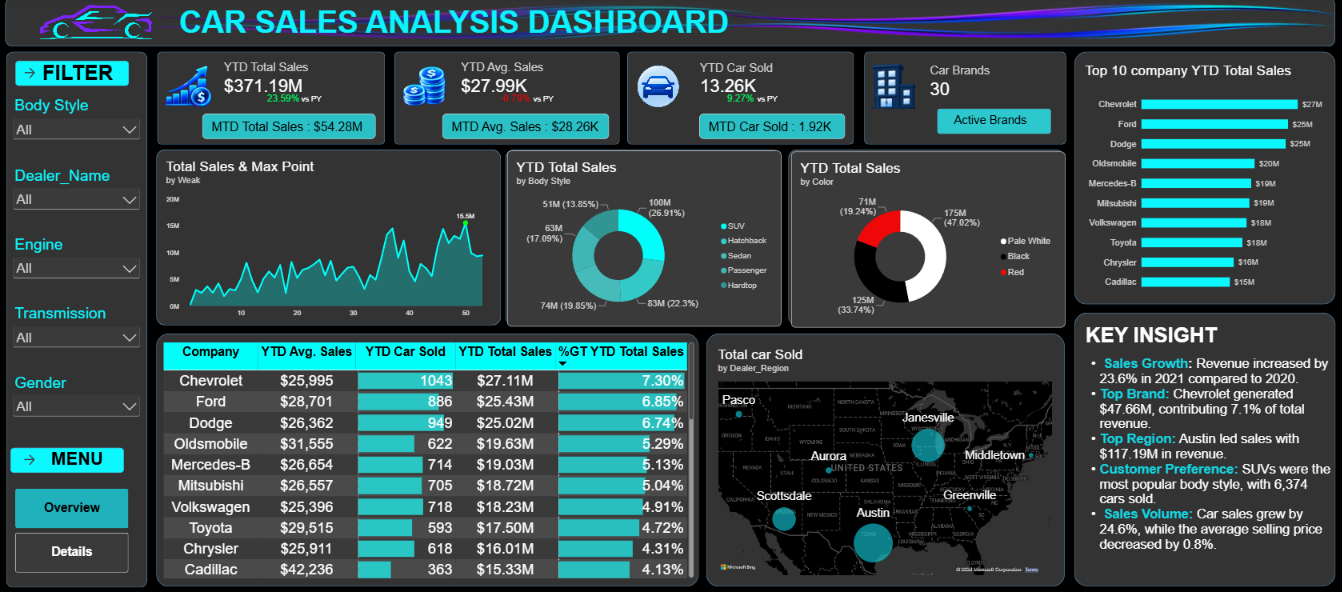

The dashboard page shown, as its layout file describes it:
{"tool":"powerbi","page":{"name":"Overview","canvas":[2433,1080],"ordinal":0},"visuals":[{"type":"shape","box":[11.1,0,2406.9,88.4],"z":0},{"type":"shape","box":[284,275,624,318],"z":0,"group":"g2"},{"type":"shape","box":[1279.2,607,648.8,457.9],"z":0,"group":"g1"},{"type":"shape","box":[1945,97.2,473,457.5],"z":1000},{"type":"shape","box":[286,98,412.2,168.4],"z":1000,"group":"g3"},{"type":"shape","box":[916,275.1,500,318.3],"z":1000,"group":"g2"},{"type":"shape","box":[283.4,607,982,457.9],"z":1000,"group":"g1"},{"type":"shape","box":[12.7,97.7,255.2,970],"z":2000},{"type":"shape","box":[714.4,98,408.1,168.4],"z":2000,"group":"g3"},{"type":"shape","box":[1428,275.1,500,318.3],"z":2000,"group":"g2"},{"type":"shape","box":[1944.7,569.4,473,495.1],"z":2000,"group":"g1"},{"type":"shape","box":[1136.8,98,410.2,168.4],"z":3000,"group":"g3"},{"type":"group","id":"g1","title":"Group 2","box":[283.4,569.4,2134.3,495.5],"z":3000},{"type":"shape","box":[1565.2,98,365.5,168.4],"z":4000,"group":"g3"},{"type":"group","id":"g2","title":"Group 5","box":[284,275,1644,318.4],"z":4000},{"type":"image","box":[234,10,1172,68],"z":5000},{"type":"image","box":[64,9.8,222.5,68.3],"z":6000},{"type":"image","box":[1264.5,9.8,1168.9,68.3],"z":7000},{"type":"textbox","box":[324.9,13.3,1014.5,75.1],"z":8000},{"type":"group","id":"g3","title":"Group 3","box":[286,98,1644,168],"z":9000},{"type":"cardVisual","fields":{"Data":["KPI's measures.Total YTD Sales"]},"box":[390,96,203.3,103.9],"z":10000},{"type":"image","box":[289.3,120,104.8,81.8],"z":11000},{"type":"areaChart","title":"Total Sales & Max Point","fields":{"Category":["Caledar Table.Weak"],"Y":["KPI's measures.Total Sales","KPI's measures.Max Point"]},"box":[285.1,276.3,614.4,320.5],"z":12000},{"type":"donutChart","fields":{"Category":["Cars Sales Data.Body Style"],"Y":["KPI's measures.YTD Total Sales"]},"box":[920,276,496,318],"z":13000},{"type":"image","box":[715.1,120,104.8,81.8],"z":14000},{"type":"donutChart","fields":{"Category":["Cars Sales Data.Color"],"Y":["KPI's measures.YTD Total Sales"]},"box":[1434,278,496,318],"z":15000},{"type":"image","box":[1141,120,104.8,81.8],"z":16000},{"type":"clusteredBarChart","title":"Top 10 company YTD Total Sales","fields":{"Category":["Cars Sales Data.Company"],"Y":["KPI's measures.YTD Total Sales"]},"box":[1949.4,103.9,461.9,450.9],"z":17000},{"type":"image","box":[1564.5,120,104.8,81.8],"z":18000},{"type":"tableEx","fields":{"Values":["Cars Sales Data.Company","KPI's measures.YTD Avg. Sales","KPI's measures.YTD Car Sold","KPI's measures.YTD Total Sales","Divide(KPI's measures.YTD Total Sales, ScopedEval(KPI's measures.YTD Total Sales, []))"]},"box":[290,615,974,445],"z":19000},{"type":"slicer","fields":{"Values":["Cars Sales Data.Body Style"]},"box":[20,180,240,88],"z":20000},{"type":"cardVisual","fields":{"Data":["KPI's measures.YTD Avg. Sales"]},"box":[820,96,203.3,103.9],"z":21000},{"type":"cardVisual","fields":{"Data":["KPI's measures.YTD Car Sold"]},"box":[1252,96,166,104],"z":22000},{"type":"slicer","fields":{"Values":["Cars Sales Data.Dealer_Name"]},"box":[20,305,240,88],"z":23000},{"type":"cardVisual","fields":{"Data":["KPI's measures.Car Brands"]},"box":[1668,96,204,114],"z":24000},{"type":"slicer","fields":{"Values":["Cars Sales Data.Engine"]},"box":[20,430,240,88],"z":25000},{"type":"cardVisual","fields":{"Data":["KPI's measures.MTD Avg. KPIs"]},"box":[802,210,302,46],"z":26000},{"type":"slicer","fields":{"Values":["Cars Sales Data.Transmission"]},"box":[20,555,240,88],"z":27000},{"type":"slicer","fields":{"Values":["Cars Sales Data.Gender"]},"box":[20,680,240,88],"z":28000},{"type":"cardVisual","fields":{"Data":["KPI's measures.Agv. Sales Growth %"]},"box":[890,165,93,37],"z":29000},{"type":"cardVisual","fields":{"Data":["KPI's measures.sales Growth %"]},"box":[468,165,93,37],"z":30000},{"type":"shape","box":[29,114,206,46],"z":31000},{"type":"cardVisual","fields":{"Data":["KPI's measures.Car Sold Growth %"]},"box":[1302,165,93,37],"z":32000},{"type":"textbox","box":[78,114,136,47],"z":33000},{"type":"cardVisual","fields":{"Data":["KPI's measures.MTD Car KPIs"]},"box":[1266,210,264,46],"z":34000},{"type":"shape","box":[20,814,206,46],"z":35000},{"type":"actionButton","box":[34,117,41,37],"z":36000},{"type":"shape","box":[1698,200,206,46],"z":37000},{"type":"actionButton","box":[24,816,62,40],"z":38000},{"type":"textbox","box":[1711,210,182,28],"z":39000},{"type":"textbox","box":[95,817,117,38],"z":40000},{"type":"textbox","box":[967,176,80,26],"z":41000},{"type":"cardVisual","fields":{"Data":["KPI's measures.MTD Sales Kpis"]},"box":[368,210,314,46],"z":42000},{"type":"textbox","box":[1372,176,80,26],"z":43000},{"type":"textbox","box":[546,176,80,26],"z":44000},{"type":"map","fields":{"Category":["Cars Sales Data.Dealer_Region"],"Size":["KPI's measures.Total car Sold"]},"box":[1285,616.7,636,444.3],"z":45000},{"type":"textbox","box":[1945,583.5,466.4,475.2],"z":46000},{"type":"pageNavigator","box":[28.7,888.5,205.6,152.5],"z":46001}]}

Visuals, with their boxes in screenshot pixels (x1, y1, x2, y2), scaled from the page's 2433x1080 canvas onto the 1342x592 screenshot:
shape: bbox(6, 0, 1334, 48)
shape: bbox(157, 151, 501, 325)
shape: bbox(706, 333, 1063, 584)
shape: bbox(1073, 53, 1334, 304)
shape: bbox(158, 54, 385, 146)
shape: bbox(505, 151, 781, 325)
shape: bbox(156, 333, 698, 584)
shape: bbox(7, 54, 148, 585)
shape: bbox(394, 54, 619, 146)
shape: bbox(788, 151, 1063, 325)
shape: bbox(1073, 312, 1334, 584)
shape: bbox(627, 54, 853, 146)
"Group 2" group: bbox(156, 312, 1334, 584)
shape: bbox(863, 54, 1065, 146)
"Group 5" group: bbox(157, 151, 1063, 325)
image: bbox(129, 5, 776, 43)
image: bbox(35, 5, 158, 43)
image: bbox(697, 5, 1341, 43)
textbox: bbox(179, 7, 739, 48)
"Group 3" group: bbox(158, 54, 1065, 146)
cardVisual - KPI's measures.Total YTD Sales: bbox(215, 53, 327, 110)
image: bbox(160, 66, 217, 111)
"Total Sales & Max Point" areaChart: bbox(157, 151, 496, 327)
donutChart - Cars Sales Data.Body Style x KPI's measures.YTD Total Sales: bbox(507, 151, 781, 326)
image: bbox(394, 66, 452, 111)
donutChart - Cars Sales Data.Color x KPI's measures.YTD Total Sales: bbox(791, 152, 1065, 327)
image: bbox(629, 66, 687, 111)
"Top 10 company YTD Total Sales" clusteredBarChart: bbox(1075, 57, 1330, 304)
image: bbox(863, 66, 921, 111)
tableEx - Cars Sales Data.Company x KPI's measures.YTD Avg. Sales: bbox(160, 337, 697, 581)
slicer - Cars Sales Data.Body Style: bbox(11, 99, 143, 147)
cardVisual - KPI's measures.YTD Avg. Sales: bbox(452, 53, 564, 110)
cardVisual - KPI's measures.YTD Car Sold: bbox(691, 53, 782, 110)
slicer - Cars Sales Data.Dealer_Name: bbox(11, 167, 143, 215)
cardVisual - KPI's measures.Car Brands: bbox(920, 53, 1033, 115)
slicer - Cars Sales Data.Engine: bbox(11, 236, 143, 284)
cardVisual - KPI's measures.MTD Avg. KPIs: bbox(442, 115, 609, 140)
slicer - Cars Sales Data.Transmission: bbox(11, 304, 143, 352)
slicer - Cars Sales Data.Gender: bbox(11, 373, 143, 421)
cardVisual - KPI's measures.Agv. Sales Growth %: bbox(491, 90, 542, 111)
cardVisual - KPI's measures.sales Growth %: bbox(258, 90, 309, 111)
shape: bbox(16, 62, 130, 88)
cardVisual - KPI's measures.Car Sold Growth %: bbox(718, 90, 769, 111)
textbox: bbox(43, 62, 118, 88)
cardVisual - KPI's measures.MTD Car KPIs: bbox(698, 115, 844, 140)
shape: bbox(11, 446, 125, 471)
actionButton: bbox(19, 64, 41, 84)
shape: bbox(937, 110, 1050, 135)
actionButton: bbox(13, 447, 47, 469)
textbox: bbox(944, 115, 1044, 130)
textbox: bbox(52, 448, 117, 469)
textbox: bbox(533, 96, 578, 111)
cardVisual - KPI's measures.MTD Sales Kpis: bbox(203, 115, 376, 140)
textbox: bbox(757, 96, 801, 111)
textbox: bbox(301, 96, 345, 111)
map - Cars Sales Data.Dealer_Region x KPI's measures.Total car Sold: bbox(709, 338, 1060, 582)
textbox: bbox(1073, 320, 1330, 580)
pageNavigator: bbox(16, 487, 129, 571)
